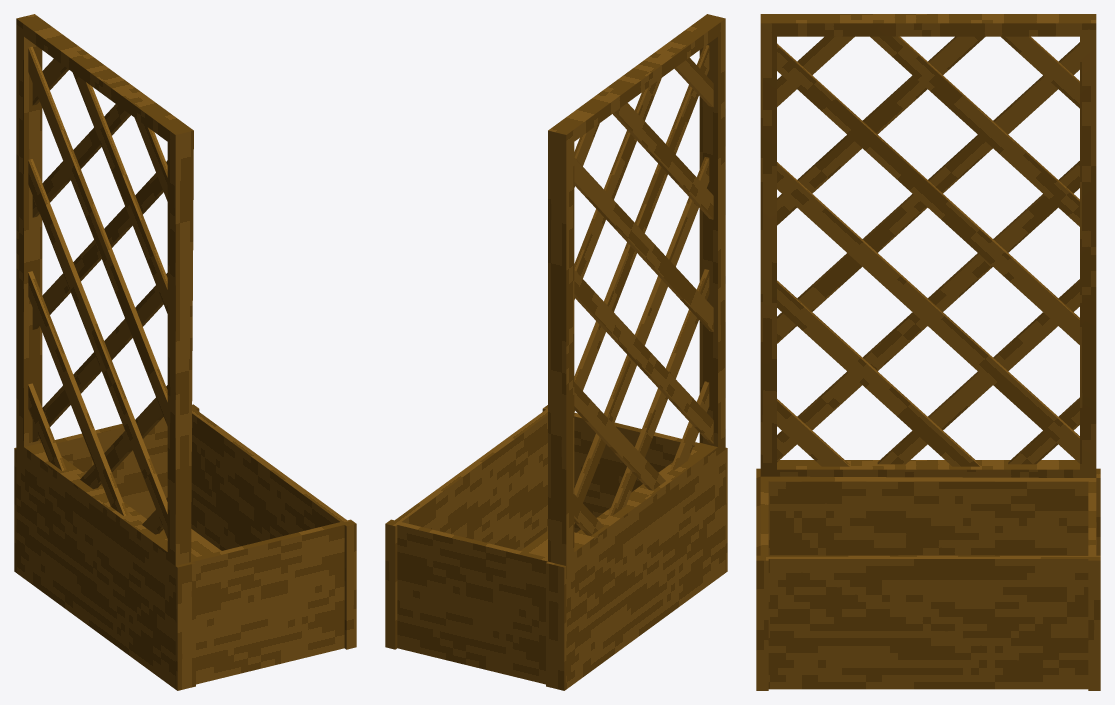
File: outdoor_planter.fbx
The picture shows the model from 3 angles, left to right: view 1: azimuth 30°, elevation 25°; view 2: azimuth 150°, elevation 25°; view 3: azimuth 270°, elevation 25°; orthographic projection. The views are drawn at different scales.
Parts seen in each view (by area): view 1: Box; view 2: Box; view 3: Box.
Part boxes in pixels (x1=…): Box: x1=14, y1=14, x2=356, y2=690; Box: x1=385, y1=14, x2=727, y2=690; Box: x1=756, y1=14, x2=1100, y2=690.
Bounding box in the file's own units: 130 × 384 × 205.
Materials: 1 (1 with a texture image).
